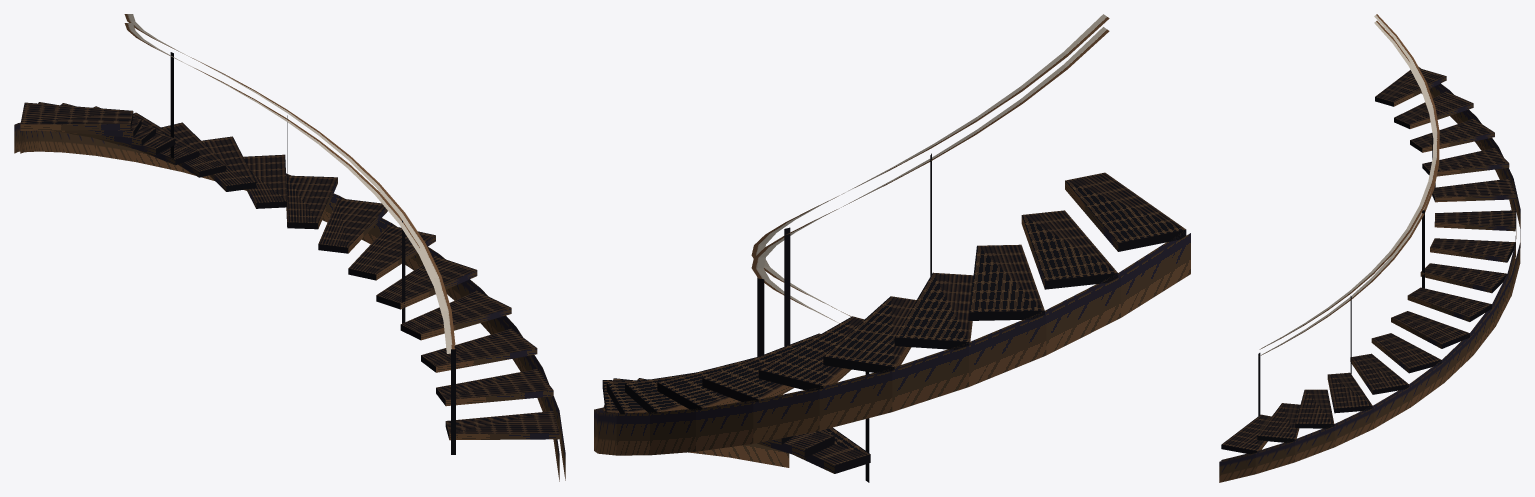
File: TOR-06_Caracol_interior.gltf
3 views of the same model, side by side, from view 1: azimuth 30°, elevation 25°; view 2: azimuth 150°, elevation 25°; view 3: azimuth 270°, elevation 25° (orthographic). The views are drawn at different scales.
Visible parts, largest first — view 1: TOR-06_Caracol_interior-col; view 2: TOR-06_Caracol_interior-col; view 3: TOR-06_Caracol_interior-col.
Boxes of the visible parts, bbox=[...] form: TOR-06_Caracol_interior-col: bbox=[14, 14, 565, 481]; TOR-06_Caracol_interior-col: bbox=[594, 14, 1190, 482]; TOR-06_Caracol_interior-col: bbox=[1219, 14, 1520, 482].
Size of the model in its own units: 4.21 by 4.25 by 3.33.
1 material, 1 textured.
